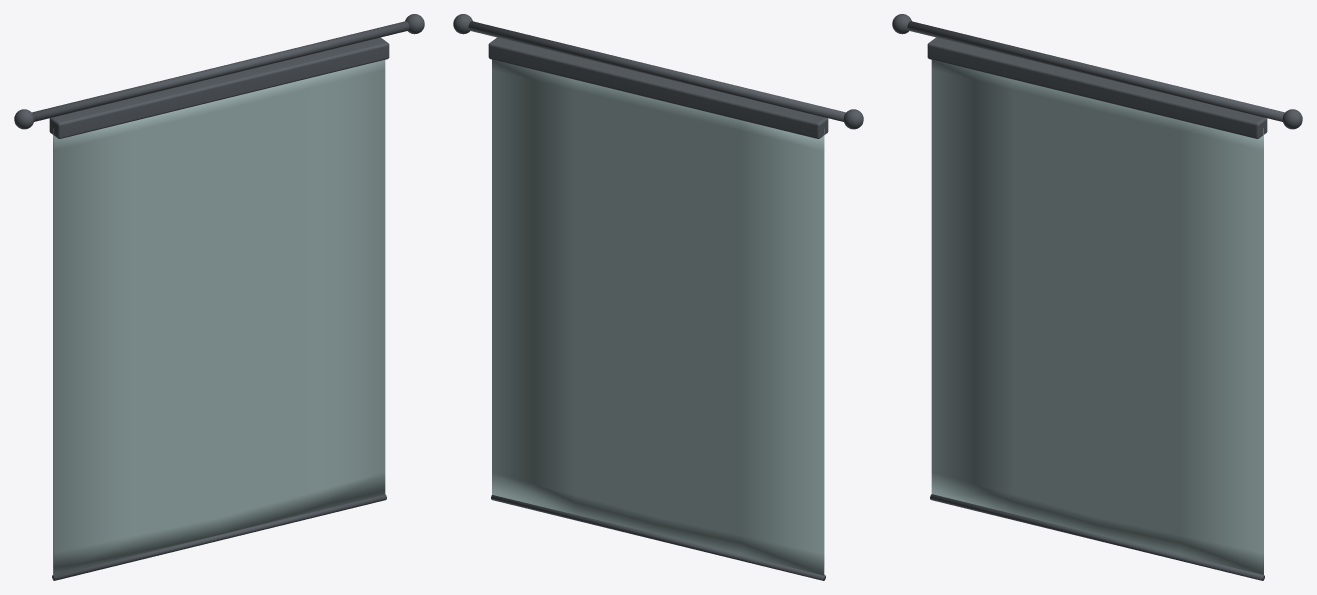
File: atelier-roller-blinds.glb
3 views of the same model, side by side, from view 1: azimuth 30°, elevation 25°; view 2: azimuth 150°, elevation 25°; view 3: azimuth 330°, elevation 25° (orthographic).
Visible parts, largest first — view 1: fabric.054, metal.054; view 2: fabric.054, metal.054; view 3: fabric.054, metal.054.
Boxes of the visible parts, x1,y1,x2,y2 form: fabric.054: (53, 60, 385, 574); metal.054: (14, 14, 424, 580); fabric.054: (492, 59, 824, 575); metal.054: (453, 14, 863, 580); fabric.054: (931, 60, 1263, 574); metal.054: (892, 14, 1302, 580).
Size of the model in its own units: 2.09 by 2.34 by 0.0899.
